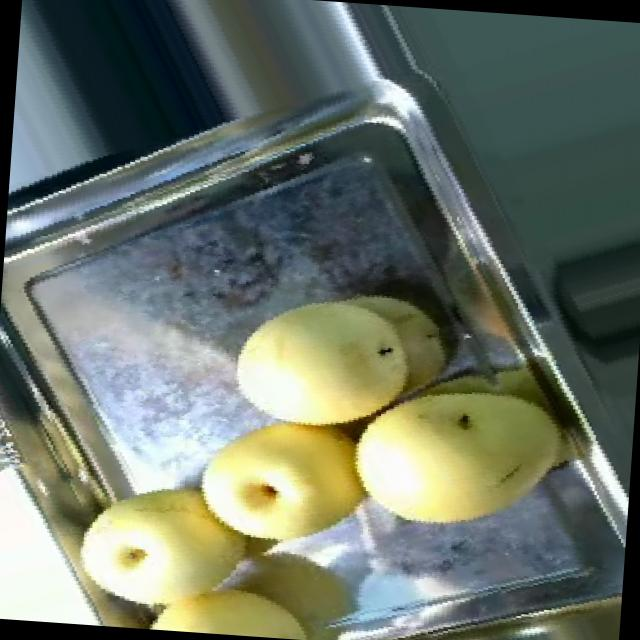Fruit: (320, 319, 618, 560), (197, 244, 483, 465), (173, 374, 404, 580), (45, 446, 288, 638), (120, 555, 342, 640)
